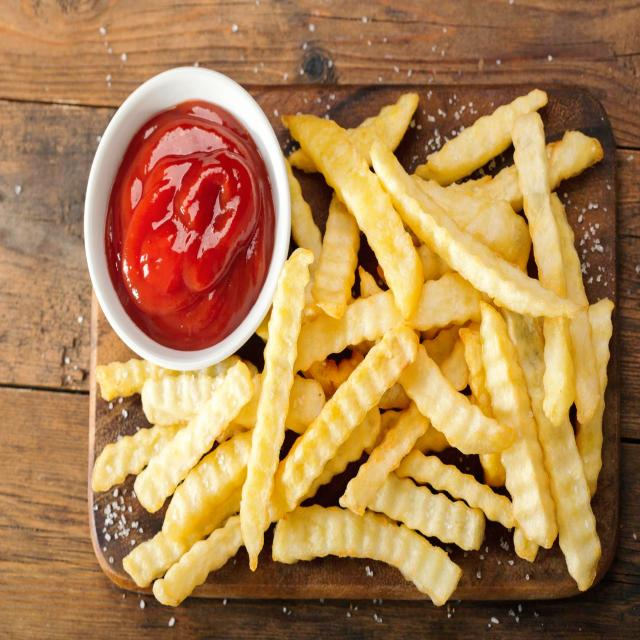french fries: (277, 92, 612, 601), (95, 354, 285, 606)
ketchup: (103, 97, 279, 352)
